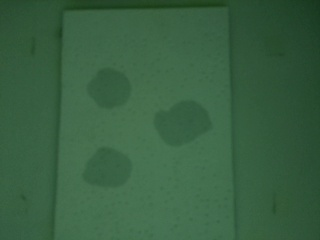Water_detected: (153, 100, 199, 141), (95, 154, 122, 189), (96, 73, 121, 107)
